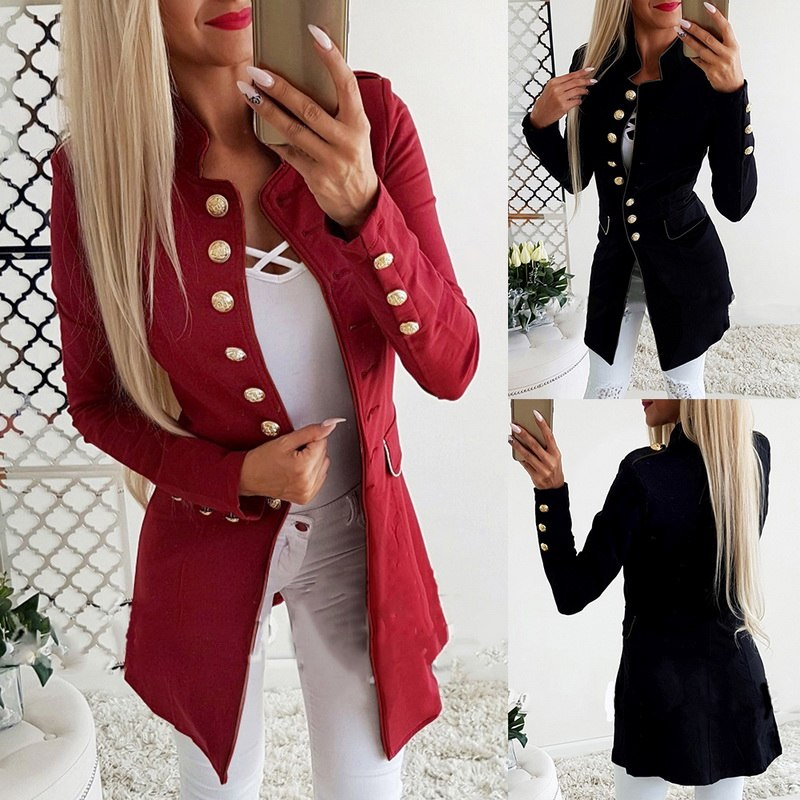F_W_suit jacket: (35, 77, 461, 614)
